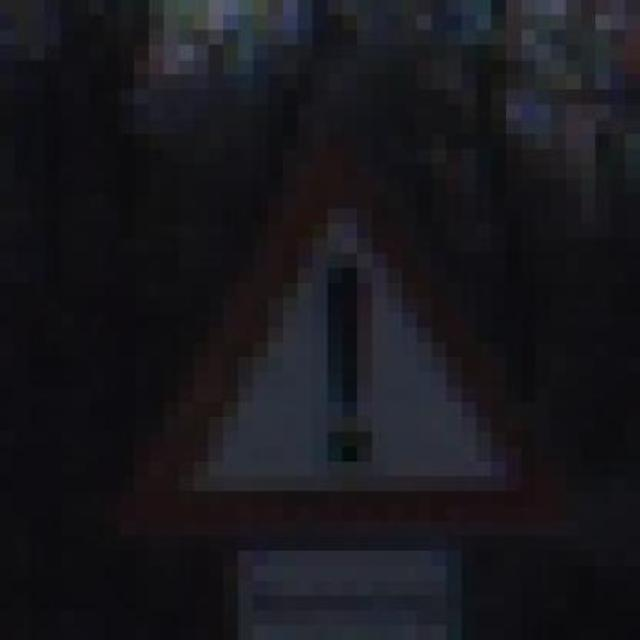Attention Please-: (90, 119, 596, 536)
